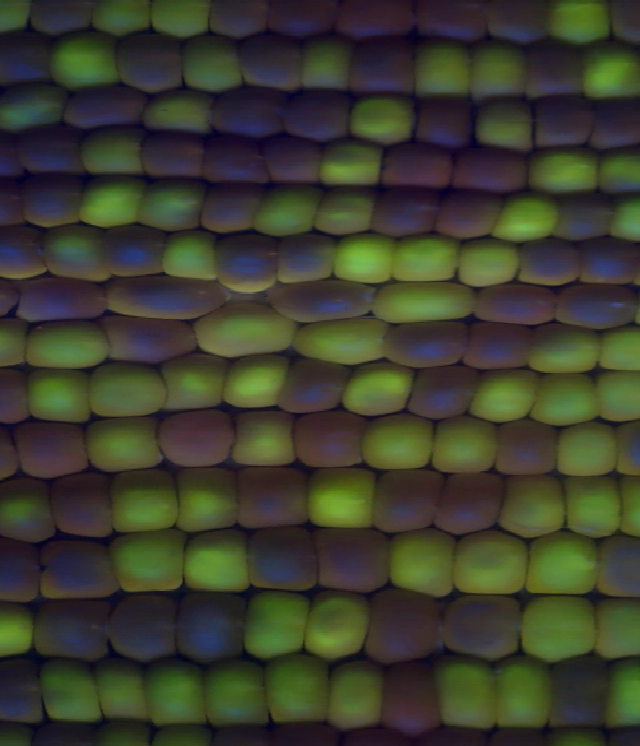fluorescent: (453, 530, 534, 598), (514, 595, 595, 663), (18, 359, 101, 424), (252, 660, 331, 726), (455, 39, 537, 100), (244, 587, 311, 659), (391, 531, 459, 601), (101, 536, 182, 594), (492, 471, 560, 540), (97, 475, 175, 534), (192, 308, 295, 352), (89, 417, 165, 476), (437, 659, 498, 730), (360, 416, 443, 468), (550, 418, 618, 481), (528, 531, 591, 598), (199, 665, 268, 726), (492, 658, 553, 727), (142, 662, 201, 733), (560, 476, 620, 545), (524, 145, 602, 198), (334, 363, 415, 414), (313, 468, 376, 533), (298, 314, 388, 359), (308, 594, 370, 659), (97, 360, 163, 420), (430, 414, 499, 471), (385, 233, 463, 282), (168, 465, 230, 526), (375, 287, 486, 321), (220, 407, 292, 459), (153, 355, 223, 408), (327, 662, 386, 724), (527, 327, 607, 372), (26, 321, 104, 366), (139, 182, 210, 231), (470, 94, 533, 149), (581, 42, 640, 100), (39, 663, 98, 721), (413, 39, 469, 100), (47, 34, 114, 84), (353, 88, 414, 142), (544, 1, 615, 47), (223, 352, 282, 407), (473, 371, 542, 418), (156, 237, 224, 284), (79, 130, 152, 173), (44, 221, 101, 276), (297, 37, 355, 88), (592, 601, 640, 662), (189, 36, 236, 94), (318, 139, 378, 184), (197, 530, 244, 587), (544, 375, 601, 421), (84, 171, 140, 216), (497, 197, 565, 234), (98, 662, 139, 723), (142, 97, 211, 133), (0, 597, 39, 660), (265, 189, 323, 231), (0, 481, 40, 539), (465, 240, 520, 282), (324, 189, 379, 231), (0, 87, 59, 123), (608, 660, 640, 726), (602, 147, 640, 201), (599, 373, 640, 421), (340, 233, 385, 276), (155, 1, 205, 37), (97, 1, 149, 34), (602, 330, 640, 375)
nonfluorescent: (169, 578, 252, 658), (359, 592, 443, 662), (243, 526, 321, 600), (323, 518, 389, 597), (440, 594, 517, 659), (156, 405, 234, 468), (44, 530, 113, 598), (381, 663, 447, 734), (204, 230, 279, 292), (108, 584, 170, 659), (21, 607, 108, 660), (113, 30, 185, 94), (20, 269, 105, 323), (386, 314, 465, 371), (89, 284, 217, 318), (231, 466, 310, 520), (372, 473, 440, 534), (485, 417, 556, 475), (99, 317, 199, 358), (565, 650, 607, 746), (415, 92, 484, 150), (142, 133, 217, 185), (289, 410, 362, 462), (47, 473, 107, 536), (433, 472, 498, 529), (10, 420, 78, 473), (281, 233, 342, 292), (18, 178, 85, 231), (517, 47, 586, 97), (473, 310, 531, 369), (507, 237, 579, 284), (236, 36, 299, 89), (575, 236, 640, 287), (97, 231, 166, 279), (592, 526, 640, 595), (214, 89, 289, 133), (18, 126, 81, 178), (273, 287, 378, 318), (284, 355, 340, 413), (0, 533, 44, 605), (384, 147, 463, 187), (326, 1, 416, 36), (353, 39, 410, 94), (457, 152, 533, 192), (0, 23, 46, 88), (479, 1, 550, 43), (537, 94, 591, 149), (292, 94, 355, 140), (557, 284, 631, 323), (478, 284, 556, 321), (546, 194, 613, 236), (66, 87, 142, 124), (369, 191, 433, 234), (585, 100, 640, 150), (0, 653, 37, 727), (433, 194, 495, 237), (275, 1, 343, 39), (408, 1, 488, 33), (210, 140, 263, 188), (207, 1, 269, 42), (262, 134, 313, 181), (414, 368, 465, 413), (208, 184, 263, 218), (607, 420, 640, 475), (0, 365, 30, 424), (0, 227, 33, 279), (610, 1, 640, 46)
